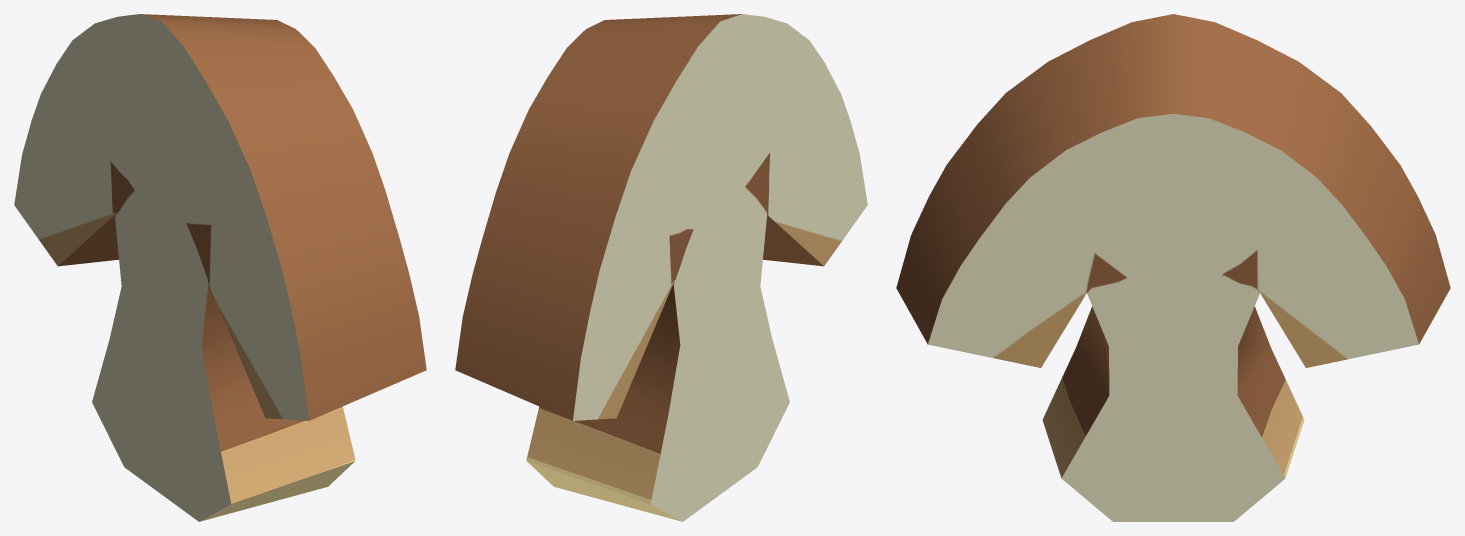
File: mushroomSlice3_-_smoother.fbx
3 views of the same model, side by side, from view 1: azimuth 30°, elevation 25°; view 2: azimuth 150°, elevation 25°; view 3: azimuth 270°, elevation 25° (orthographic). The views are drawn at different scales.
Visible parts, largest first — view 1: mushroomSlice; view 2: mushroomSlice; view 3: mushroomSlice.
Boxes of the visible parts, x1,y1,x2,y2 form: mushroomSlice: (14, 14, 426, 521); mushroomSlice: (455, 14, 867, 521); mushroomSlice: (896, 14, 1450, 521).
Size of the model in its own units: 154 by 518 by 583.
1 material, 1 textured.
